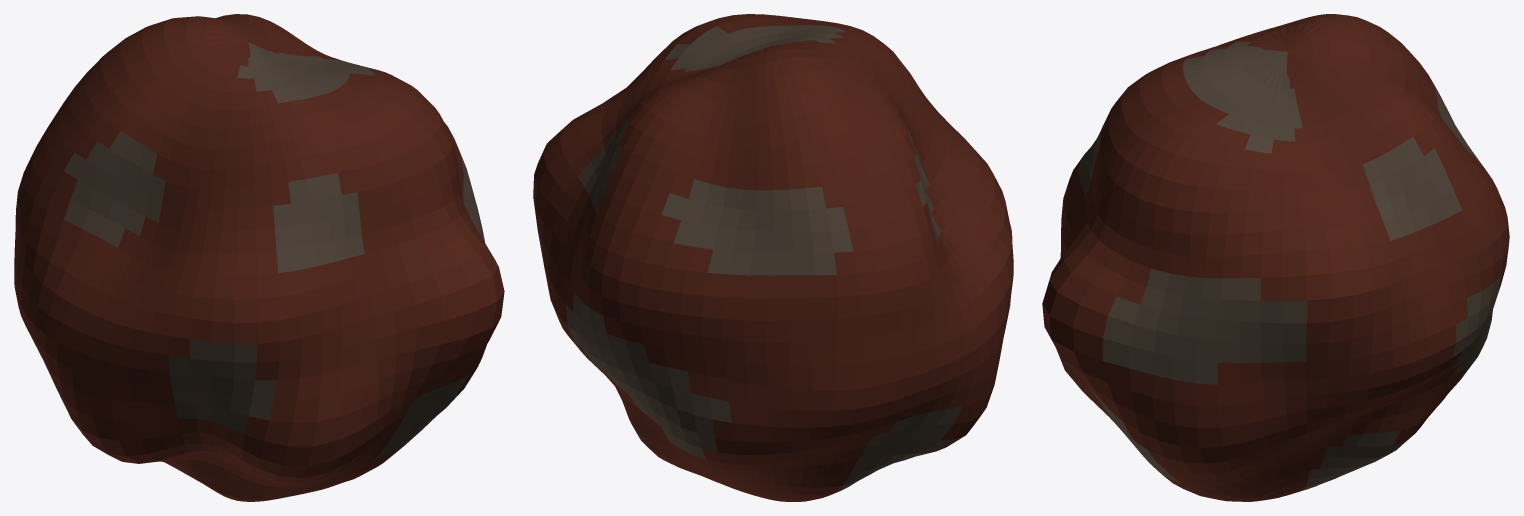
File: Meteorite.fbx
3 views of the same model, side by side, from view 1: azimuth 30°, elevation 25°; view 2: azimuth 150°, elevation 25°; view 3: azimuth 270°, elevation 25° (orthographic). The views are drawn at different scales.
Visible parts, largest first — view 1: Sphere; view 2: Sphere; view 3: Sphere.
Part boxes in pixels (x1,y1,x2,y2): Sphere: [14, 14, 504, 501]; Sphere: [533, 14, 1013, 501]; Sphere: [1042, 14, 1509, 501].
Size of the model in its own units: 259 by 271 by 257.
